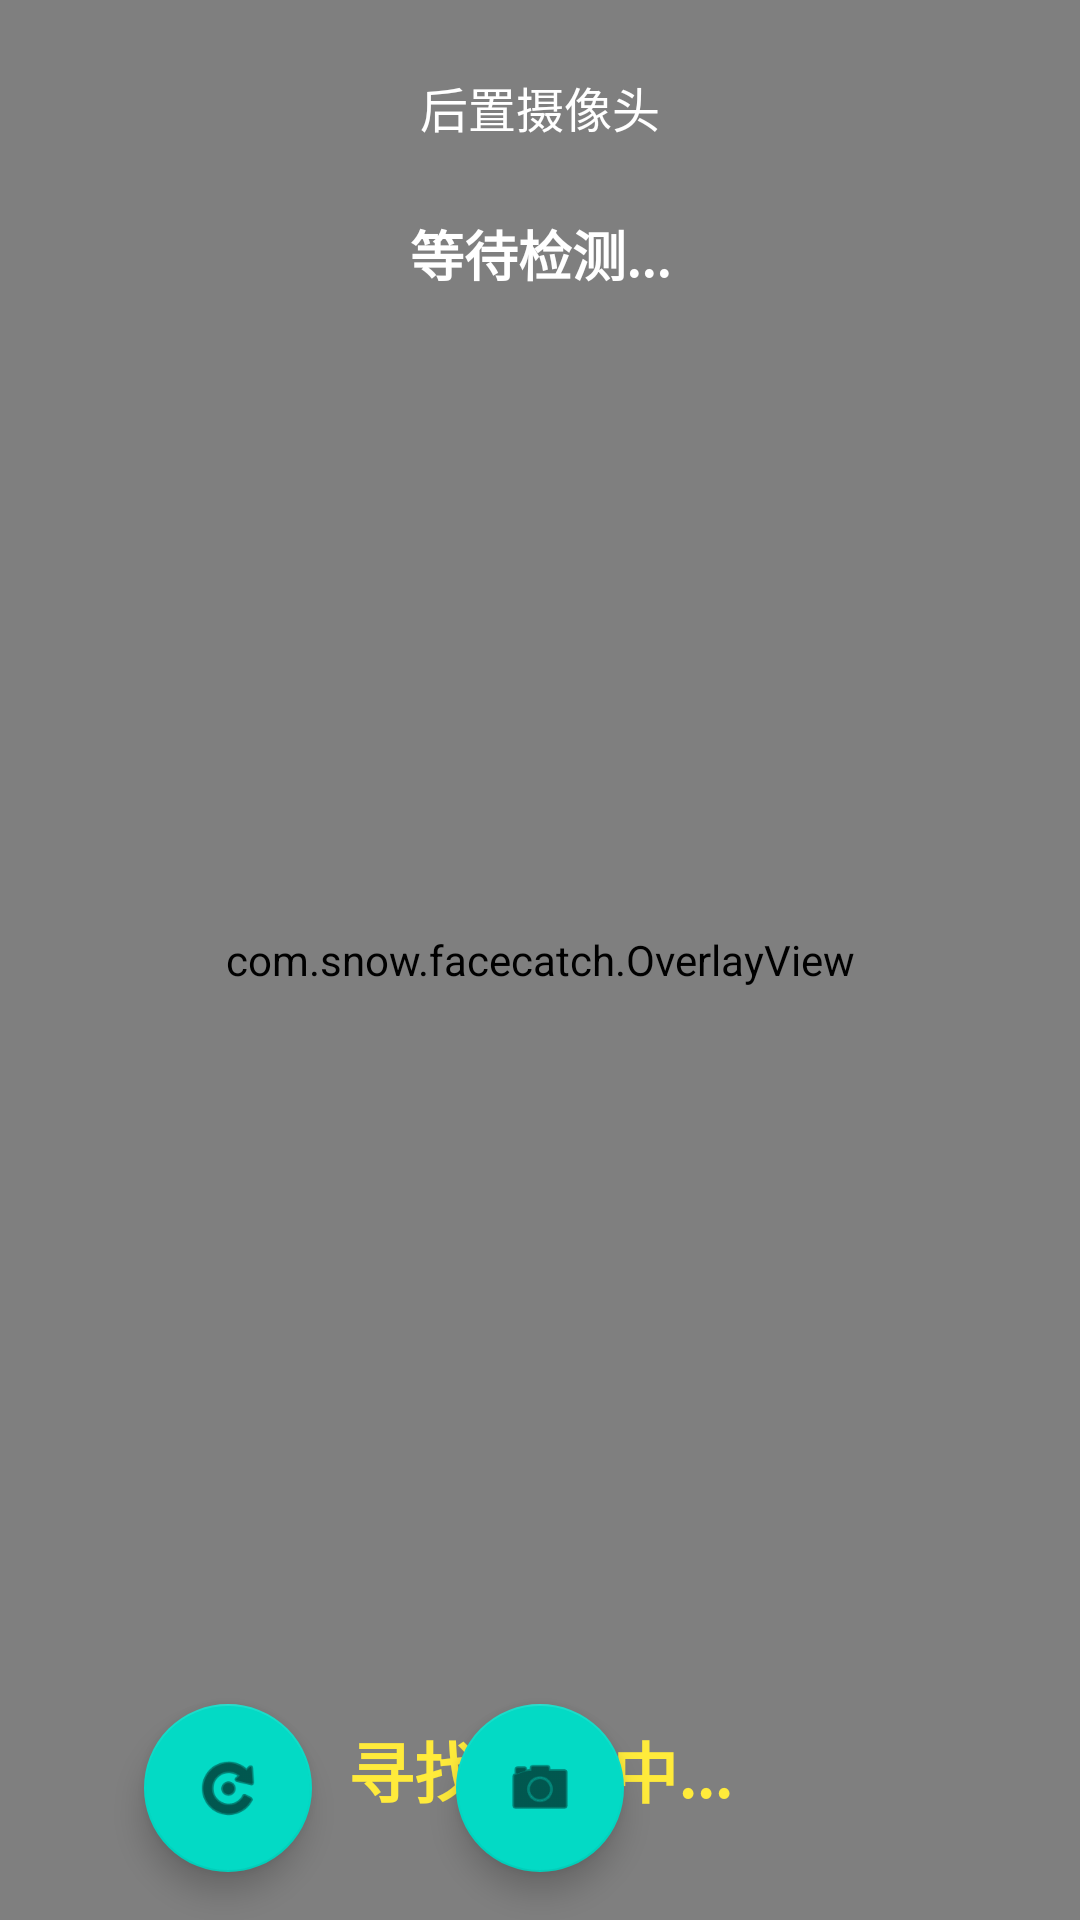

Where to tap for icons on this 1080x1920 app screen, as point (x, y):
rotate: point (228, 1788)
